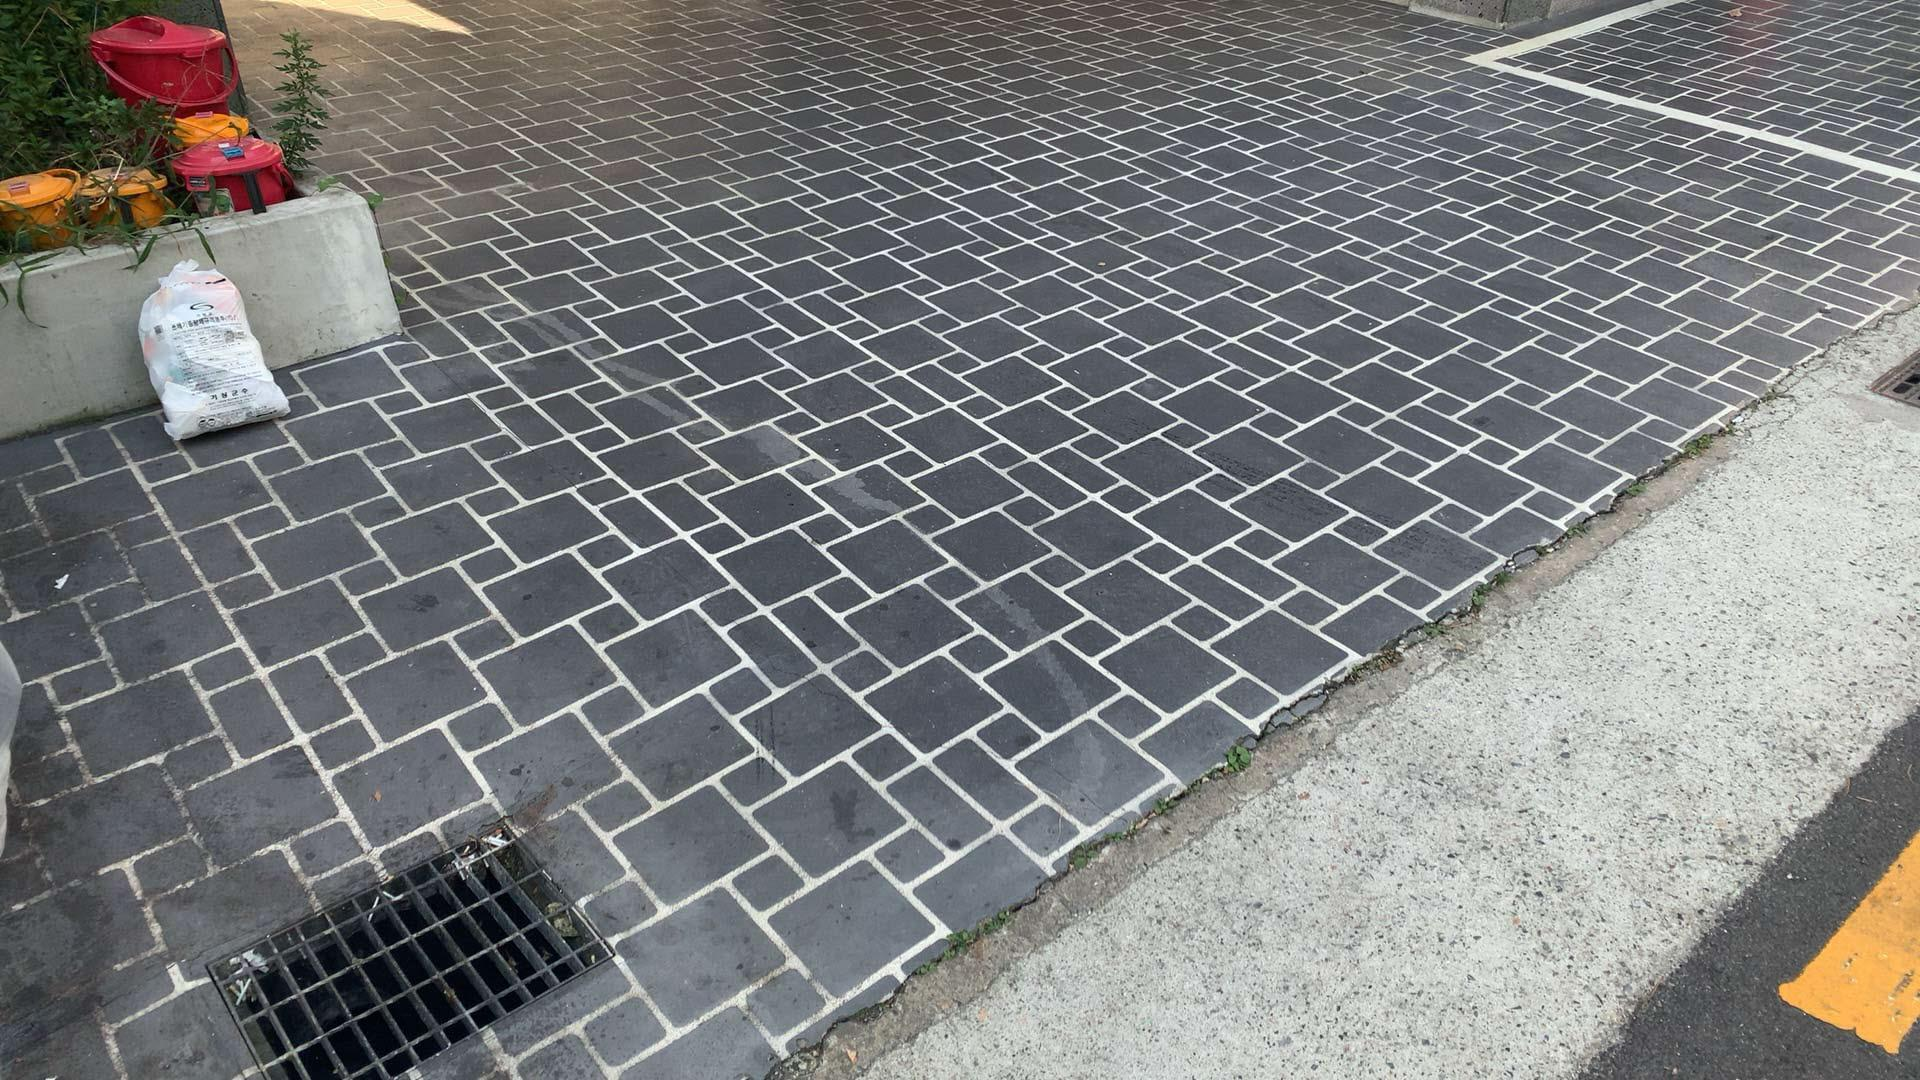white_bag: (117, 244, 307, 458)
